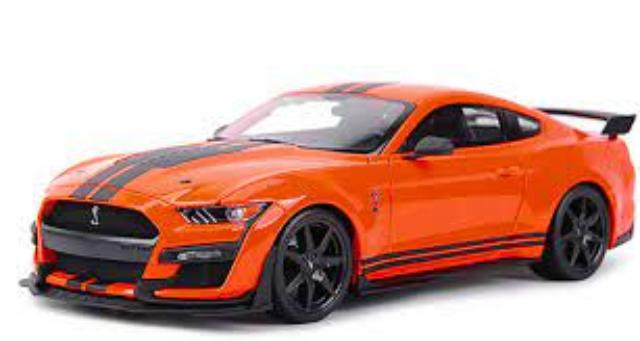ford-mustang: (19, 82, 637, 324)
